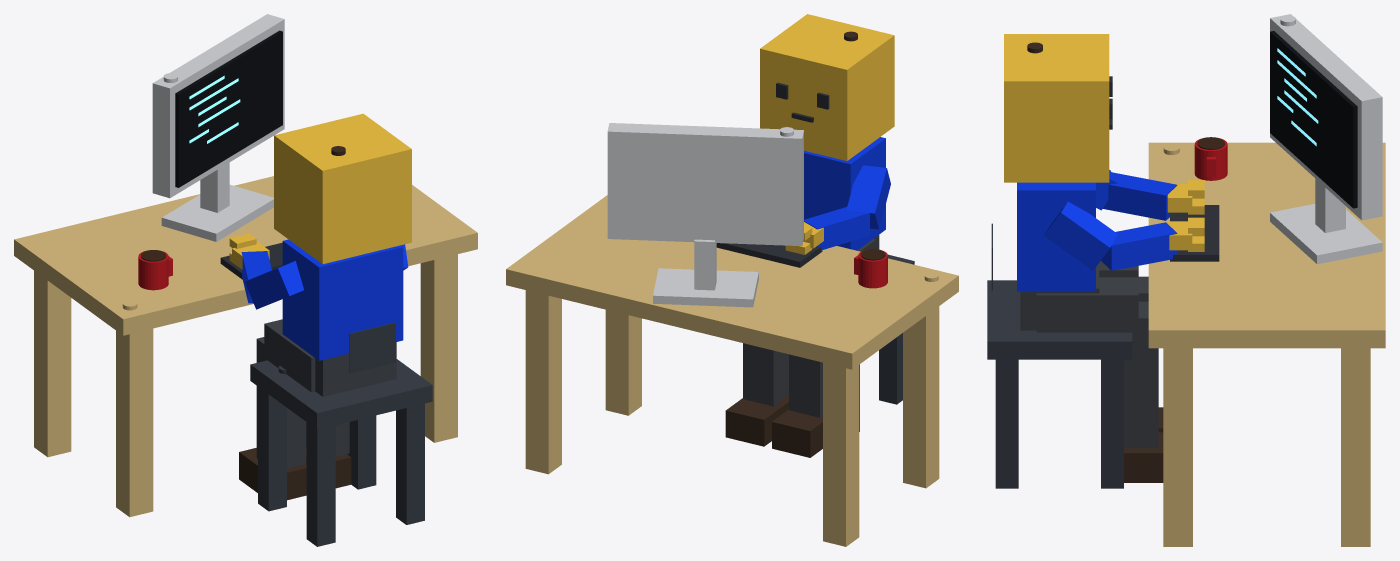
Rendered from software_engineer.glb.
3 views of the same model, side by side, from view 1: azimuth 30°, elevation 25°; view 2: azimuth 150°, elevation 25°; view 3: azimuth 270°, elevation 25° (orthographic). The views are drawn at different scales.
Visible parts, largest first — view 1: Desk_Top, Char_Head, Char_Torso, Monitor_Screen, Desk_Leg, Desk_Leg.001, Desk_Leg.002, Monitor_Shell, Chair_Seat, Chair_Leg, Chair_Leg.002, Chair_Leg.001 (+12 smaller); view 2: Desk_Top, Monitor_Shell, Char_Head, Desk_Leg.001, Desk_Leg.003, Desk_Leg, Char_Torso, Desk_Leg.002, Monitor_Base, Char_Shin_R, Char_Shoe_R, Char_Shoe_L (+7 smaller); view 3: Desk_Top, Char_Head, Monitor_Screen, Char_Torso, Monitor_Shell, Desk_Leg.002, Desk_Leg.003, Chair_Seat, Char_Thigh_R, Char_Shin_R, Monitor_Base, Chair_Leg.002 (+11 smaller).
Part boxes in pixels (box(x1,y1,x2,y2)): Desk_Top: box(14, 176, 477, 335); Char_Head: box(274, 113, 411, 264); Char_Torso: box(282, 239, 403, 360); Monitor_Screen: box(175, 30, 282, 187); Desk_Leg: box(116, 328, 153, 517); Desk_Leg.001: box(34, 271, 71, 457); Desk_Leg.002: box(420, 254, 457, 442); Monitor_Shell: box(152, 14, 284, 198); Chair_Seat: box(250, 359, 432, 429); Chair_Leg: box(306, 422, 335, 546); Chair_Leg.002: box(396, 403, 424, 524); Chair_Leg.001: box(258, 387, 286, 511); Desk_Top: box(506, 195, 958, 369); Monitor_Shell: box(607, 123, 803, 246); Char_Head: box(760, 14, 894, 160); Desk_Leg.001: box(823, 362, 859, 546); Desk_Leg.003: box(525, 290, 561, 474); Desk_Leg: box(903, 306, 939, 488); Char_Torso: box(804, 137, 885, 250); Desk_Leg.002: box(605, 309, 641, 415); Monitor_Base: box(653, 268, 758, 307); Char_Shin_R: box(743, 343, 788, 406); Char_Shoe_R: box(725, 395, 788, 446); Char_Shoe_L: box(772, 409, 822, 457); Desk_Top: box(1148, 142, 1385, 348); Char_Head: box(1004, 34, 1109, 182); Monitor_Screen: box(1270, 31, 1357, 208); Char_Torso: box(1017, 182, 1095, 291); Monitor_Shell: box(1270, 14, 1382, 220); Desk_Leg.002: box(1163, 348, 1192, 546); Desk_Leg.003: box(1341, 348, 1370, 546); Chair_Seat: box(987, 280, 1132, 359); Char_Thigh_R: box(1036, 277, 1138, 333); Char_Shin_R: box(1124, 301, 1158, 448); Monitor_Base: box(1270, 203, 1382, 264); Chair_Leg.002: box(995, 359, 1018, 488).
Size of what is drawn, in the model's own units: 1.35 by 1.36 by 1.21.
